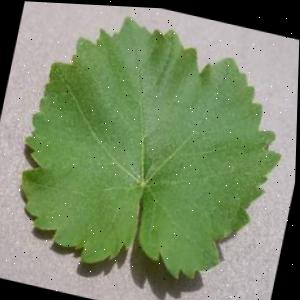Folha: (1, 0, 300, 300)
